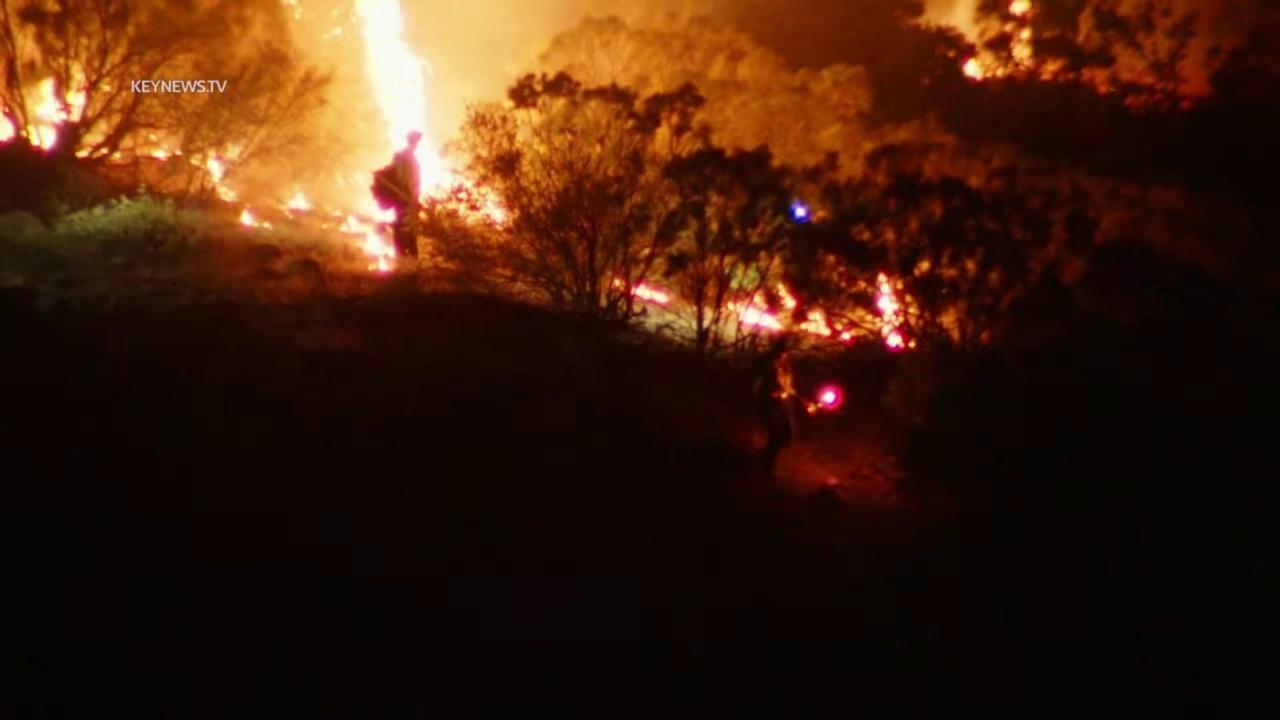fire: (330, 0, 514, 271), (0, 75, 92, 153), (872, 272, 920, 352), (726, 281, 797, 332), (203, 155, 245, 203), (613, 278, 675, 307), (811, 382, 852, 414), (799, 308, 836, 340), (237, 210, 275, 232), (283, 189, 316, 213), (958, 56, 986, 82), (145, 146, 186, 161), (1007, 0, 1037, 18), (841, 330, 852, 344)
smoke: (0, 0, 902, 275), (907, 0, 1040, 79)
